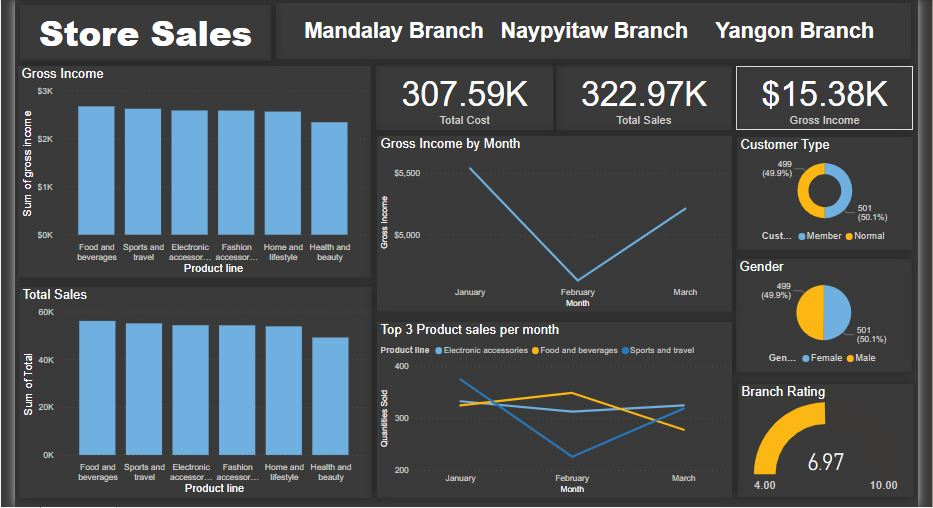

The page's visual inventory and layout, read from the dashboard file:
{"tool":"powerbi","page":{"name":"Page 1","canvas":[1280,720],"ordinal":0},"visuals":[{"type":"gauge","title":"Branch Rating","fields":{"Y":["Avg(supermarket_sales.Rating)"],"MinValue":["Min(supermarket_sales.Rating)"],"MaxValue":["Max(supermarket_sales.Rating)1"]},"box":[1024.7,545.7,249.4,160.2],"z":0},{"type":"card","fields":{"Values":["Sum(supermarket_sales.gross income)"]},"box":[1021.9,95,250.9,90.7],"z":1000},{"type":"card","fields":{"Values":["Sum(supermarket_sales.Total)"]},"box":[766.8,95,249.4,90.7],"z":2000},{"type":"textbox","box":[7.1,8.5,355.7,79.4],"z":3000},{"type":"card","fields":{"Values":["Sum(supermarket_sales.cogs)"]},"box":[511.7,95,250.9,90.7],"z":3001},{"type":"slicer","fields":{"Values":["supermarket_sales.Branch Name"]},"box":[369.9,5.7,900,79.4],"z":3002},{"type":"columnChart","title":"Gross Income","fields":{"Category":["supermarket_sales.Product line"],"Y":["Sum(supermarket_sales.gross income)"]},"box":[4.3,95,500.3,300.5],"z":3003},{"type":"columnChart","title":"Total Sales ","fields":{"Category":["supermarket_sales.Product line"],"Y":["Sum(supermarket_sales.Total)"]},"box":[5.7,408.2,500.3,299.1],"z":3004},{"type":"pieChart","title":"Gender","fields":{"Category":["supermarket_sales.Gender"],"Y":["CountNonNull(supermarket_sales.Invoice ID)"]},"box":[1021.9,368.5,249.4,160.2],"z":3005},{"type":"donutChart","title":"Customer Type","fields":{"Category":["supermarket_sales.Customer type"],"Y":["CountNonNull(supermarket_sales.Invoice ID)"]},"box":[1023.3,195.6,249.4,160.2],"z":3006},{"type":"lineChart","fields":{"Category":["supermarket_sales.Date.Variation.Date Hierarchy.Month"],"Y":["Sum(supermarket_sales.gross income)"]},"box":[513.1,194.2,503.1,249.4],"z":3007},{"type":"lineChart","title":"Top 3 Product sales per month","fields":{"Category":["supermarket_sales.Date.Variation.Date Hierarchy.Month"],"Series":["supermarket_sales.Product line"],"Y":["Sum(supermarket_sales.Quantity)"]},"box":[513.1,457.8,503.1,249.4],"z":3008}]}

Visuals, with their boxes in screenshot pixels (x1, y1, x2, y2):
"Branch Rating" gauge: (left=736, top=359, right=916, bottom=475)
card - Sum(supermarket_sales.gross income): (left=734, top=34, right=915, bottom=100)
card - Sum(supermarket_sales.Total): (left=551, top=34, right=730, bottom=100)
textbox: (left=3, top=0, right=259, bottom=29)
card - Sum(supermarket_sales.cogs): (left=367, top=34, right=547, bottom=100)
slicer - supermarket_sales.Branch Name: (left=264, top=0, right=913, bottom=27)
"Gross Income" columnChart: (left=1, top=34, right=361, bottom=251)
"Total Sales " columnChart: (left=2, top=260, right=362, bottom=476)
"Gender" pieChart: (left=734, top=232, right=914, bottom=347)
"Customer Type" donutChart: (left=735, top=107, right=915, bottom=223)
lineChart - supermarket_sales.Date.Variation.Date Hierarchy.Month x Sum(supermarket_sales.gross income): (left=368, top=106, right=730, bottom=286)
"Top 3 Product sales per month" lineChart: (left=368, top=296, right=730, bottom=476)
